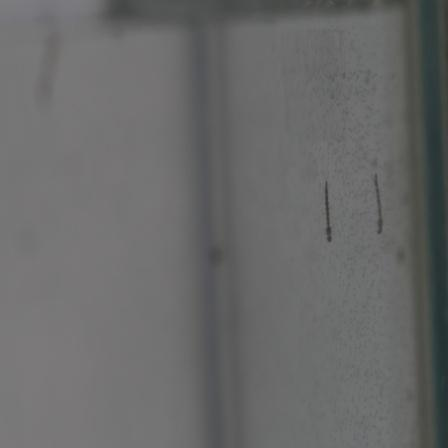Jentik-Nyamuk: (320, 174, 336, 250)
